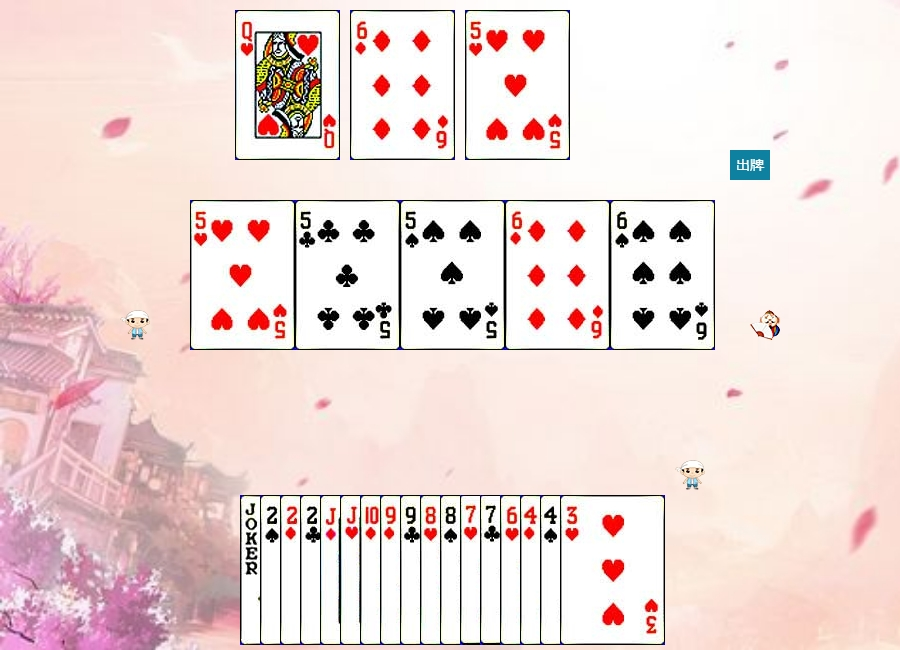10~1: (360, 495, 465, 645)
11~1: (320, 495, 425, 645)
11~3: (340, 495, 445, 645)
12~3: (235, 10, 340, 160)
15~1: (280, 495, 385, 645)
15~2: (300, 495, 405, 645)
15~4: (260, 495, 365, 645)
17~3: (240, 495, 345, 645)
3~3: (560, 495, 665, 645)
4~1: (520, 495, 625, 645)
4~4: (540, 495, 645, 645)
5~2: (295, 200, 400, 350)
5~3: (465, 10, 570, 160), (190, 200, 295, 350)
5~4: (400, 200, 505, 350)
6~1: (350, 10, 455, 160), (505, 200, 610, 350)
6~3: (500, 495, 605, 645)
6~4: (610, 200, 715, 350)
7~2: (480, 495, 585, 645)
7~3: (460, 495, 565, 645)
8~3: (420, 495, 525, 645)
8~4: (440, 495, 545, 645)
9~1: (380, 495, 485, 645)
9~2: (400, 495, 505, 645)
